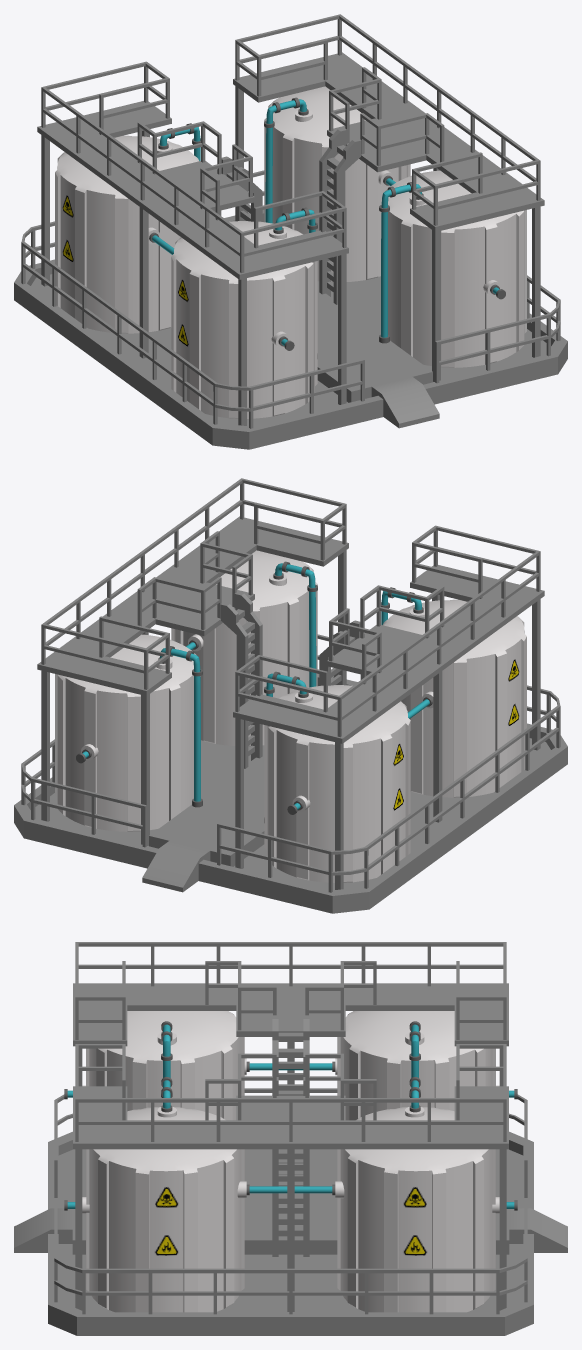
The model's file is tank.glb.
The picture shows the model from 3 angles, top to bottom: view 1: azimuth 30°, elevation 25°; view 2: azimuth 150°, elevation 25°; view 3: azimuth 270°, elevation 25°; orthographic projection. The views are drawn at different scales.
Visible parts, largest first — view 1: Platform, Tank, Pipe; view 2: Platform, Tank, Pipe; view 3: Platform, Tank, Pipe.
Boxes of the visible parts, box(x1,y1,x2,y2) form: Platform: box(14, 14, 567, 449); Tank: box(55, 86, 526, 418); Pipe: box(149, 97, 505, 358); Platform: box(14, 478, 567, 913); Tank: box(55, 550, 526, 882); Pipe: box(76, 561, 432, 822); Platform: box(14, 942, 567, 1335); Tank: box(82, 1011, 499, 1312); Pipe: box(64, 1021, 517, 1210).
Bounding box in the file's own units: 3.52 × 1.95 × 4.41.
Materials: 3 (2 with a texture image).
